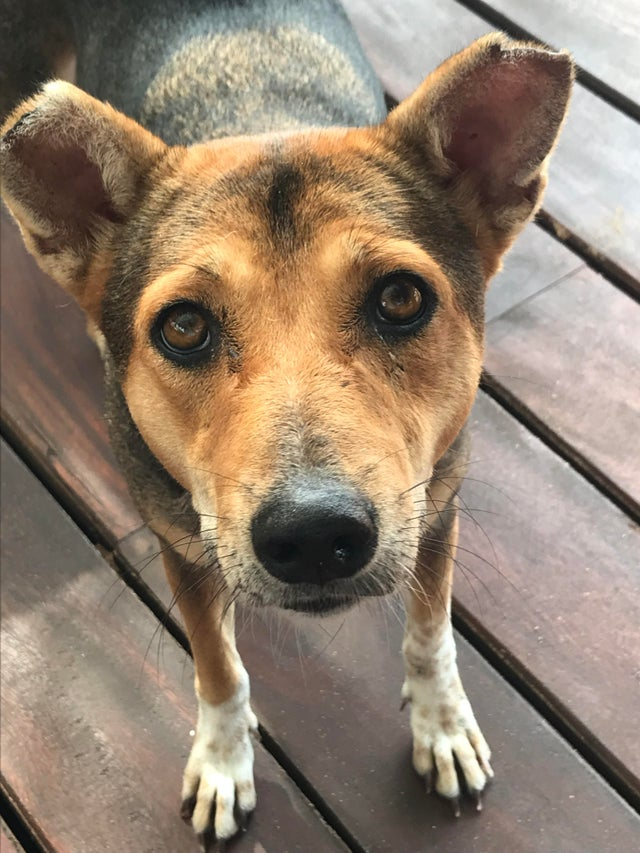Dog: (1, 21, 584, 847)
